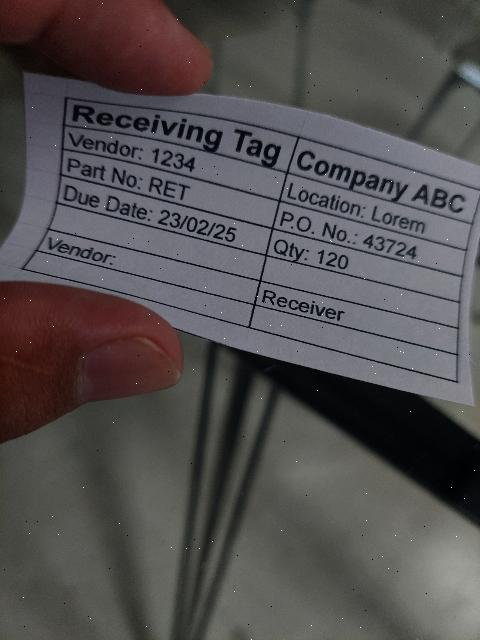PO no: (273, 199, 466, 276)
part no: (60, 147, 280, 229)
qty: (266, 227, 462, 304)
tags: (0, 73, 480, 408)
